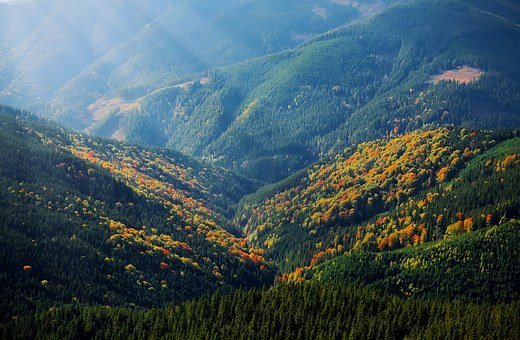forest: (6, 6, 510, 338)
mountain: (8, 8, 512, 340)
